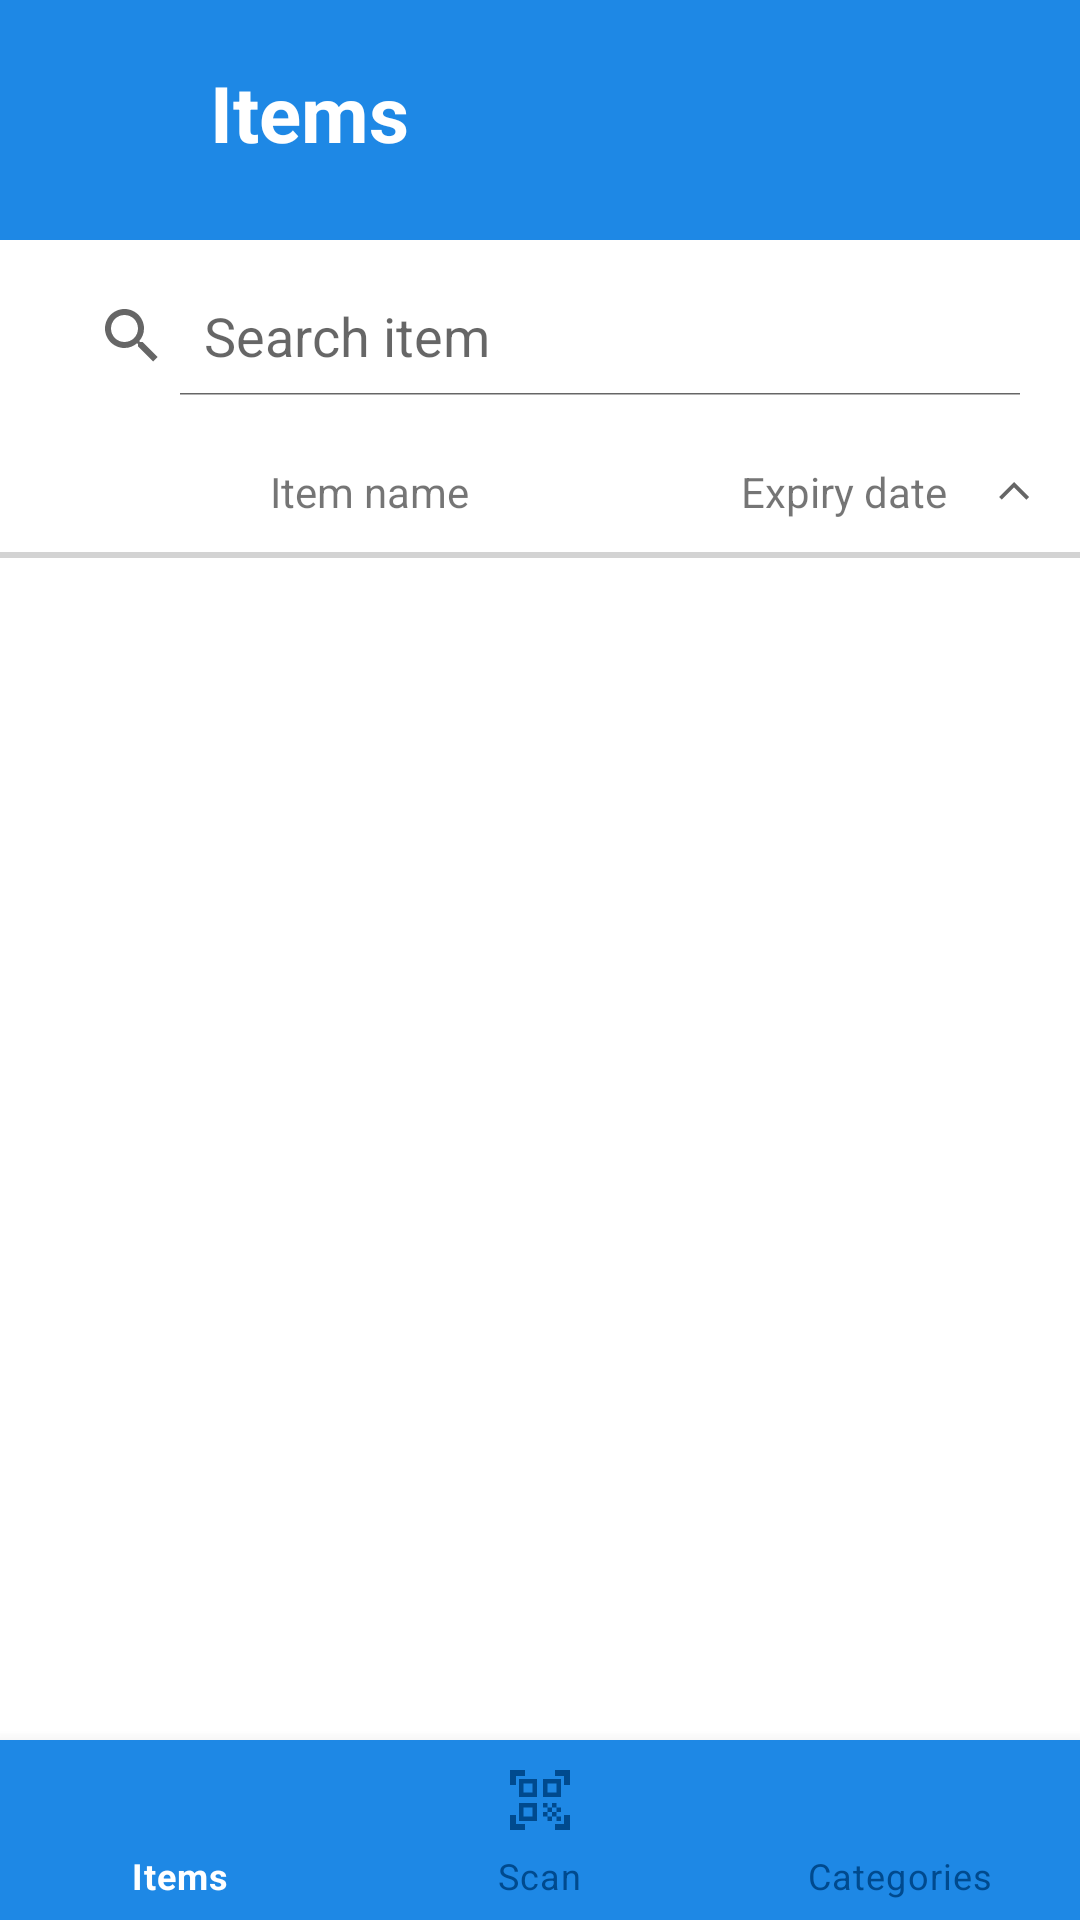

Icons on this 1080*1920 Android screen, each with its box as bbox=[x1, y1, x2, y2]:
keyboard arrow up: bbox=[999, 482, 1029, 500]
